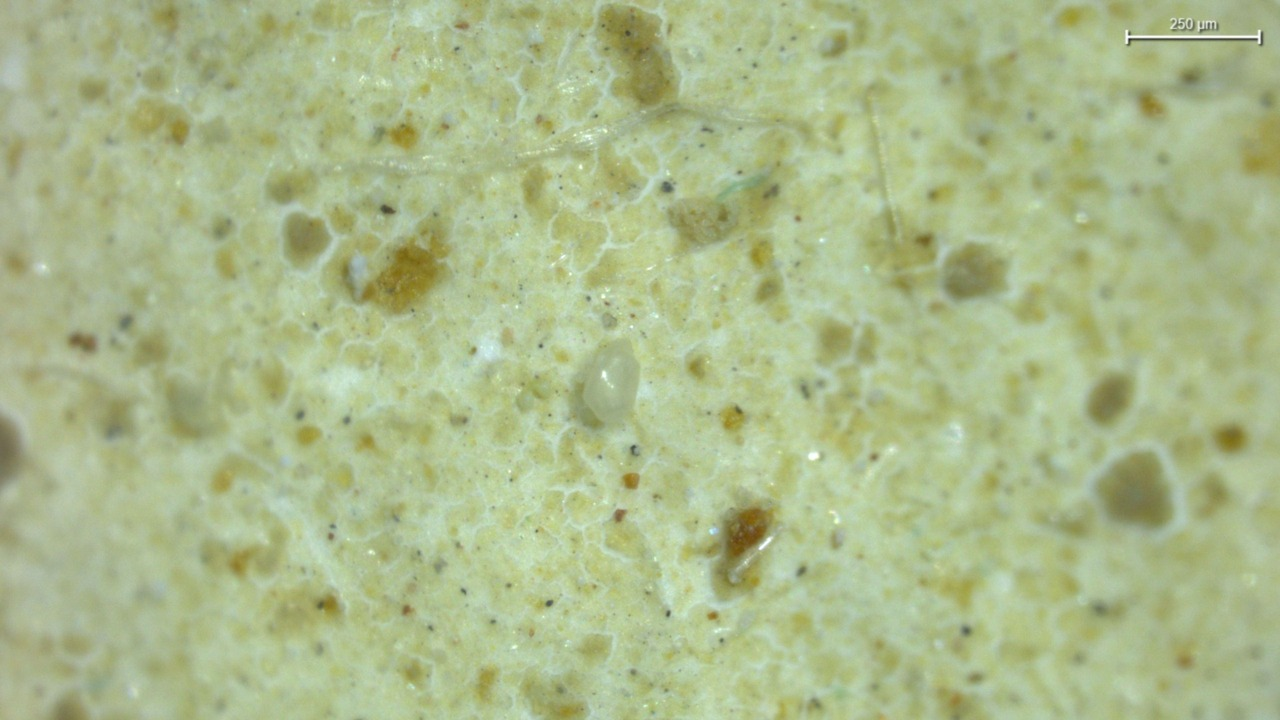microplastic_fragment: (582, 340, 639, 425), (346, 254, 370, 300)
